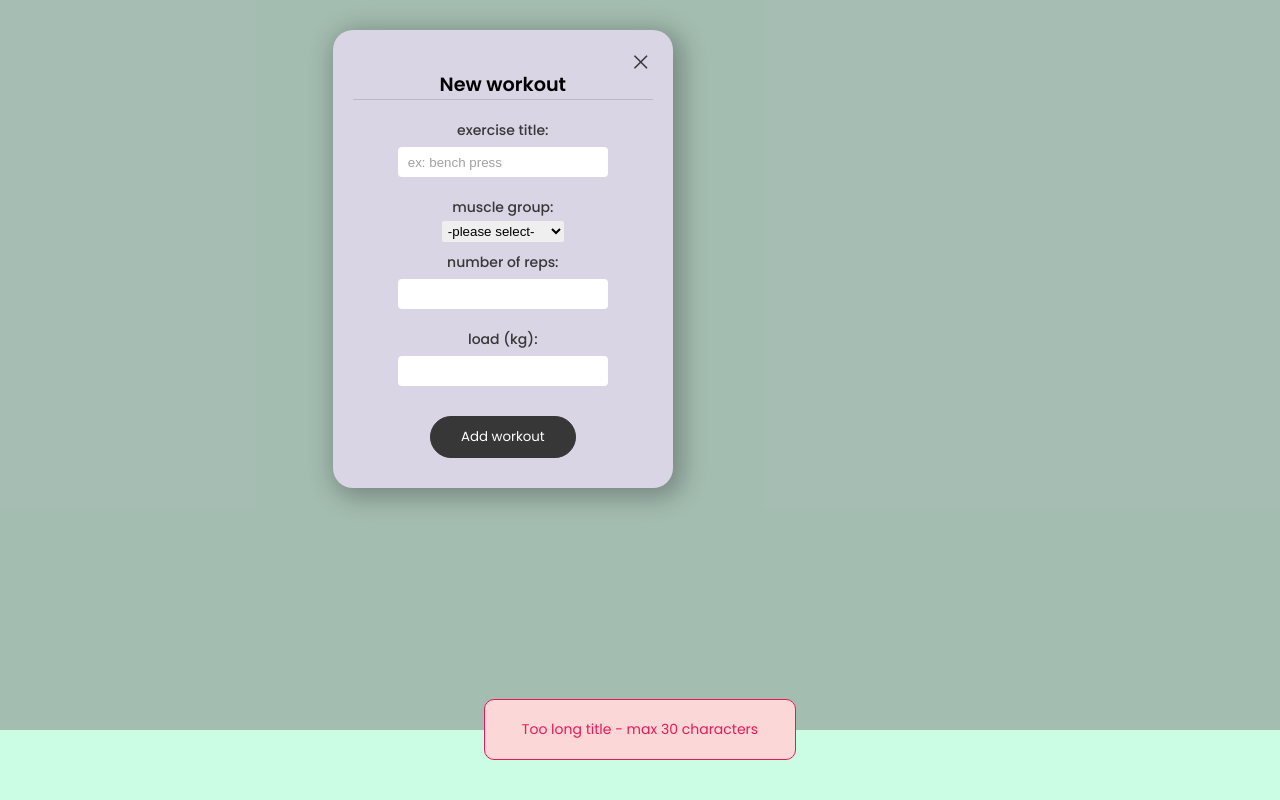
Test: <WorkoutForm/> › should render an input error if the title input value contains non-alphabetic characters
Type "66768^&^*&%<>*" into the field with test id "title".
click(503, 162); type("66768^&^*&%<>*")  # box [398,147,608,177]
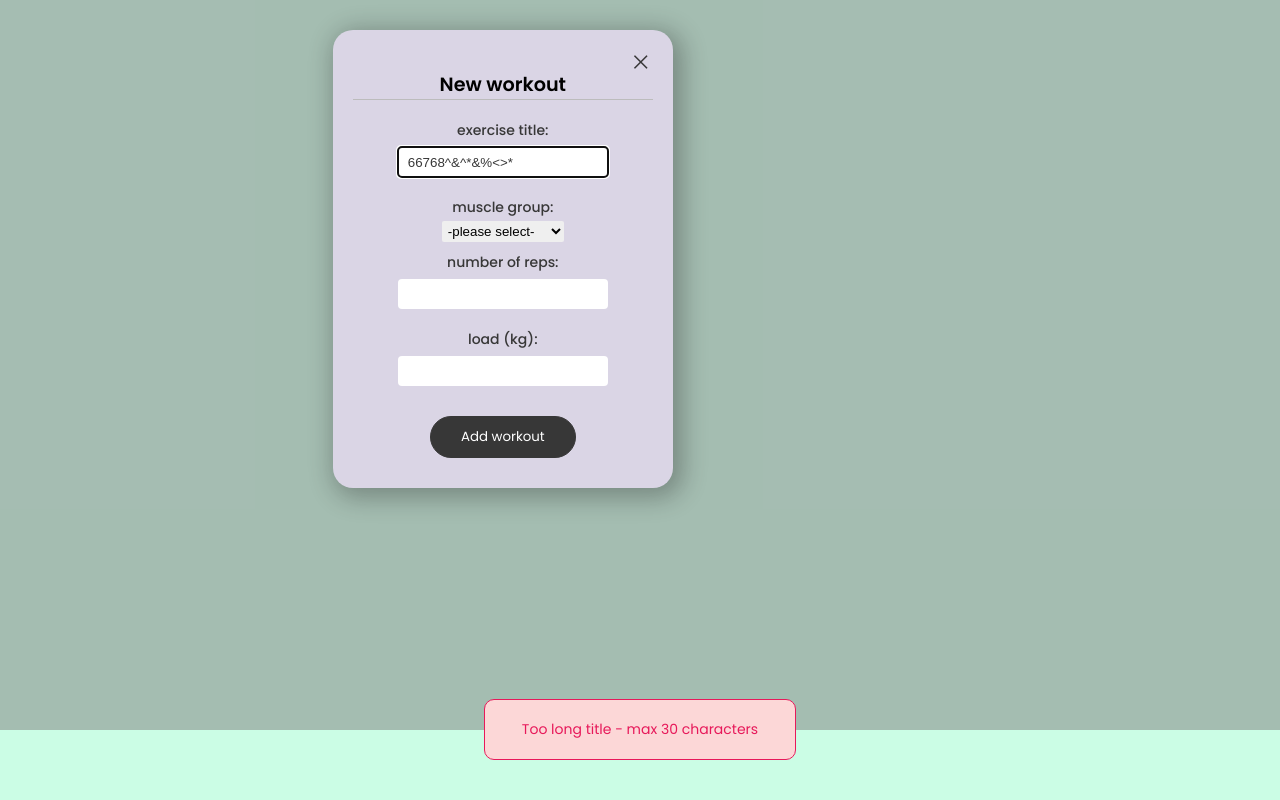
Select "biceps" in the dropdown with test id "muscle_group" at (503, 232), box [442,221,564,242]
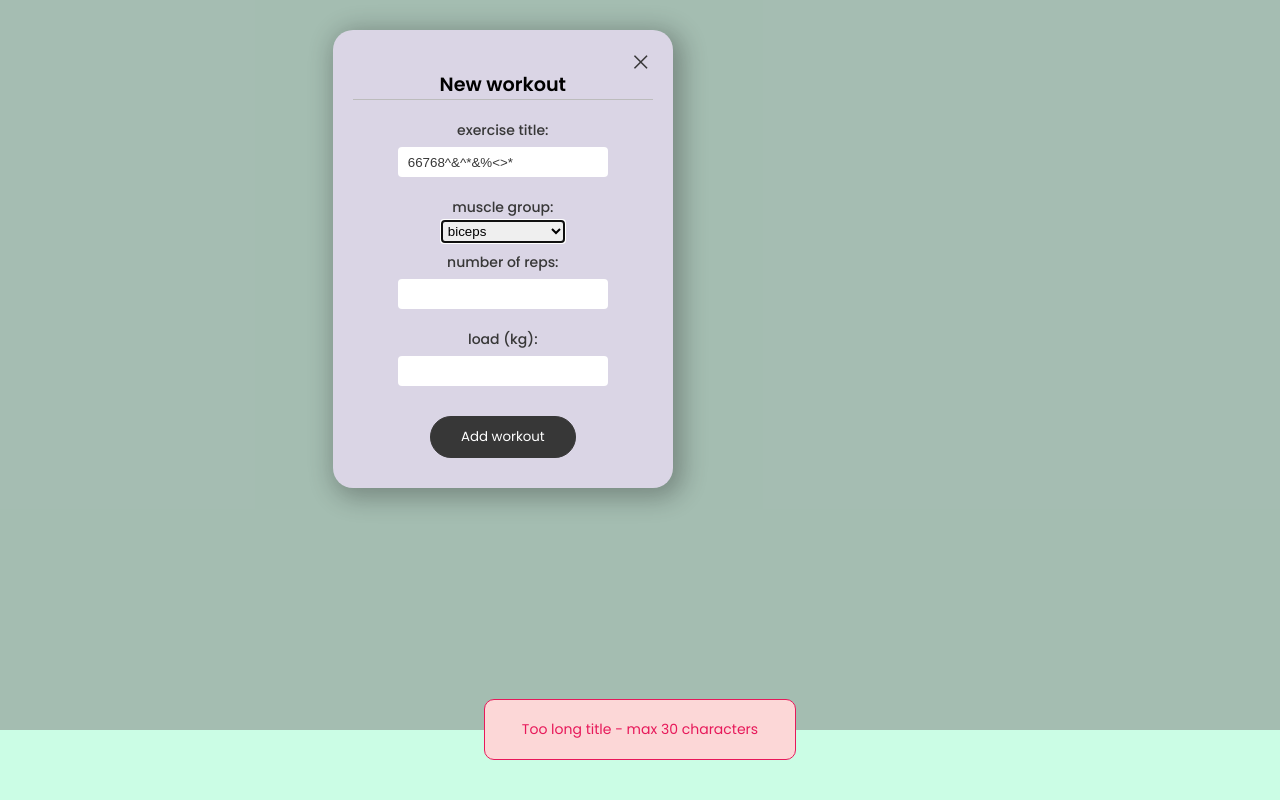
Type "22" into the number field with test id "reps".
click(503, 294); type("22")  # box [398,279,608,309]
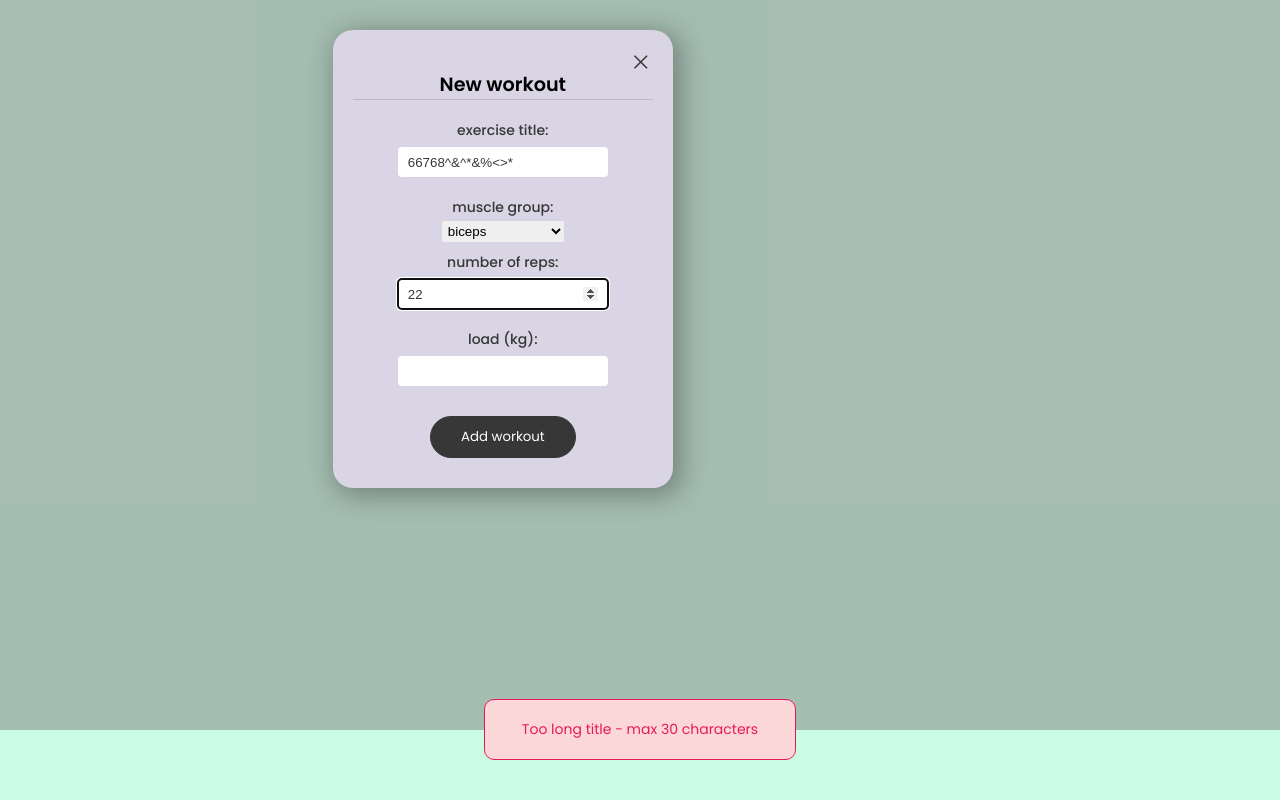
Type "22" into the number field with test id "load".
click(503, 371); type("22")  # box [398,356,608,386]
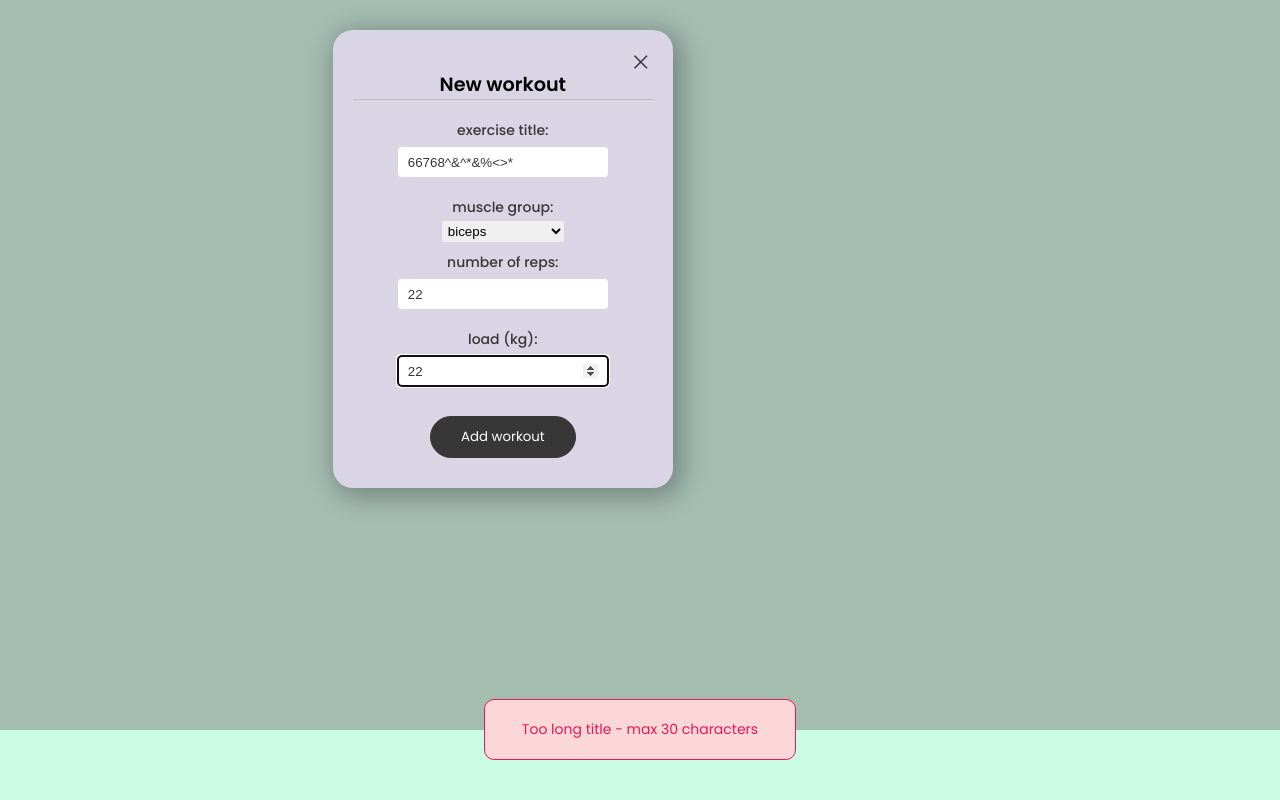
Click the button "Add workout".
click(503, 437)  # box [430,416,576,458]
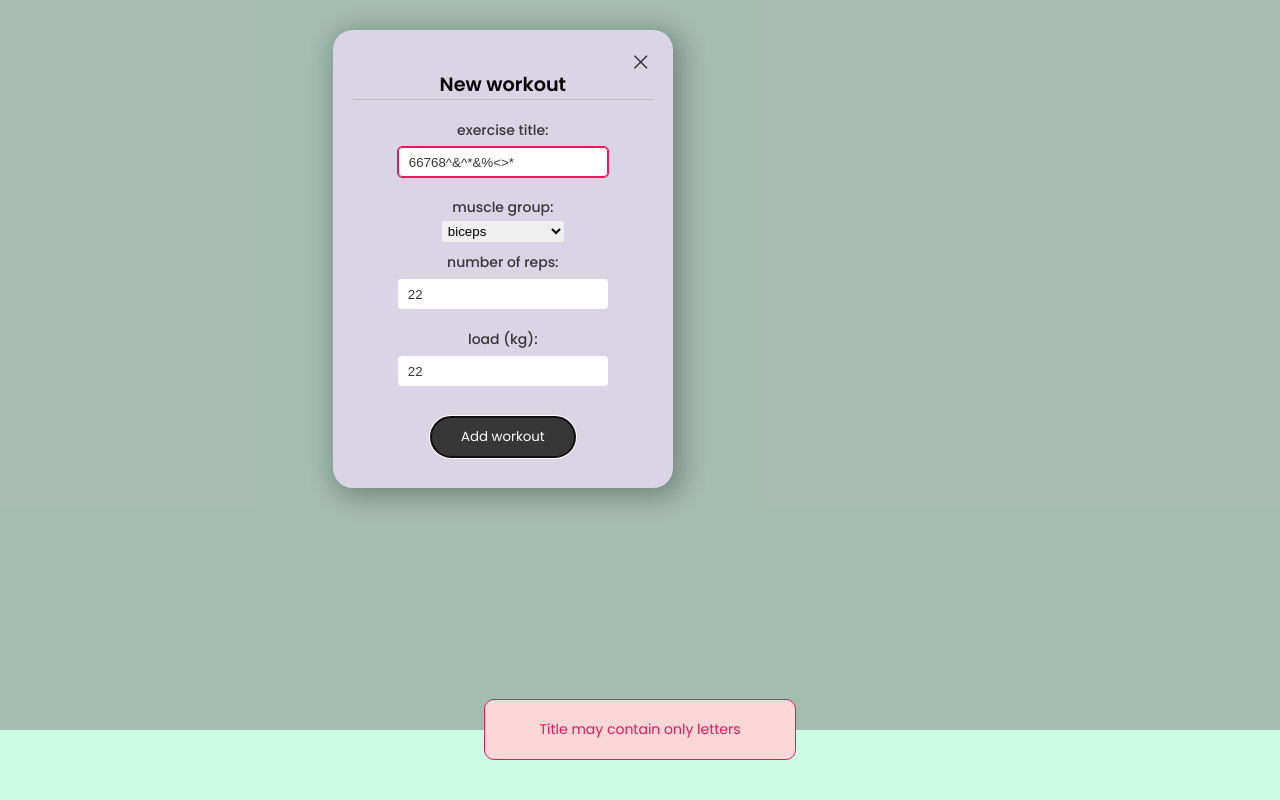
Expected: the message "Title may contain only letters" is shown, [484,699,796,760]
Expected: the message shows "may contain only letters", [539,719,740,739]
